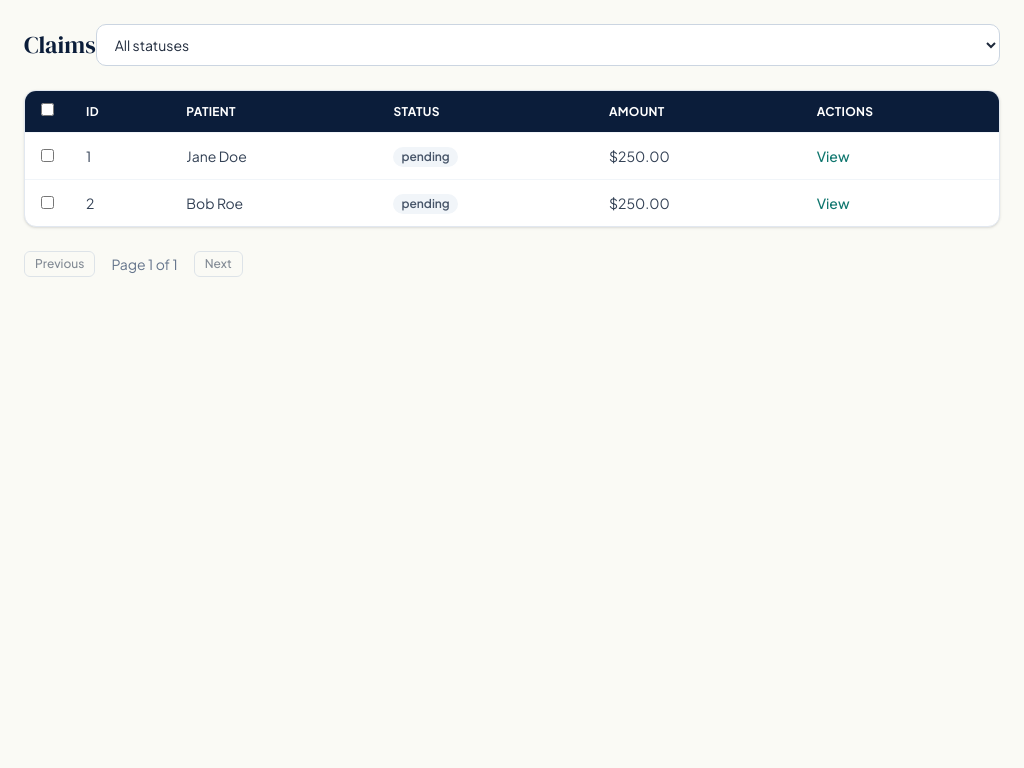
ClaimsList › batch submit posts ids and shows summary
Expected: the text "Bob Roe" is shown, [170,180,377,226]
Click the checkbox named "Select all rows".
click(48, 110)  # box [41,103,54,116]
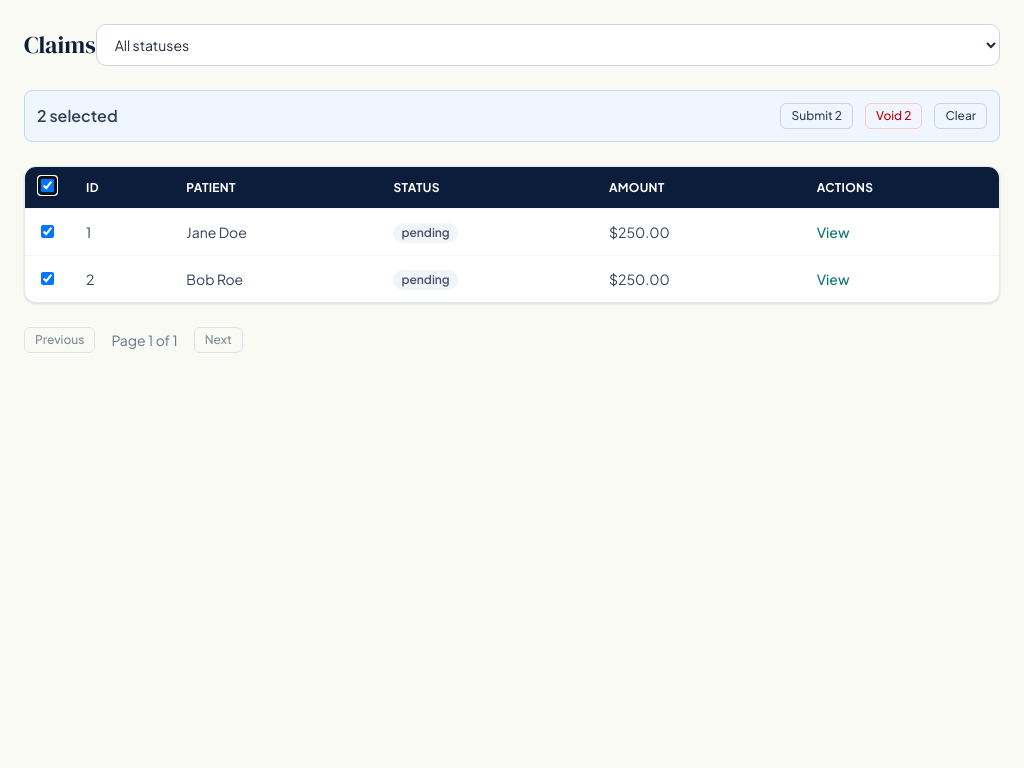
Click the button "Submit 2".
click(817, 116)  # box [780,103,853,129]
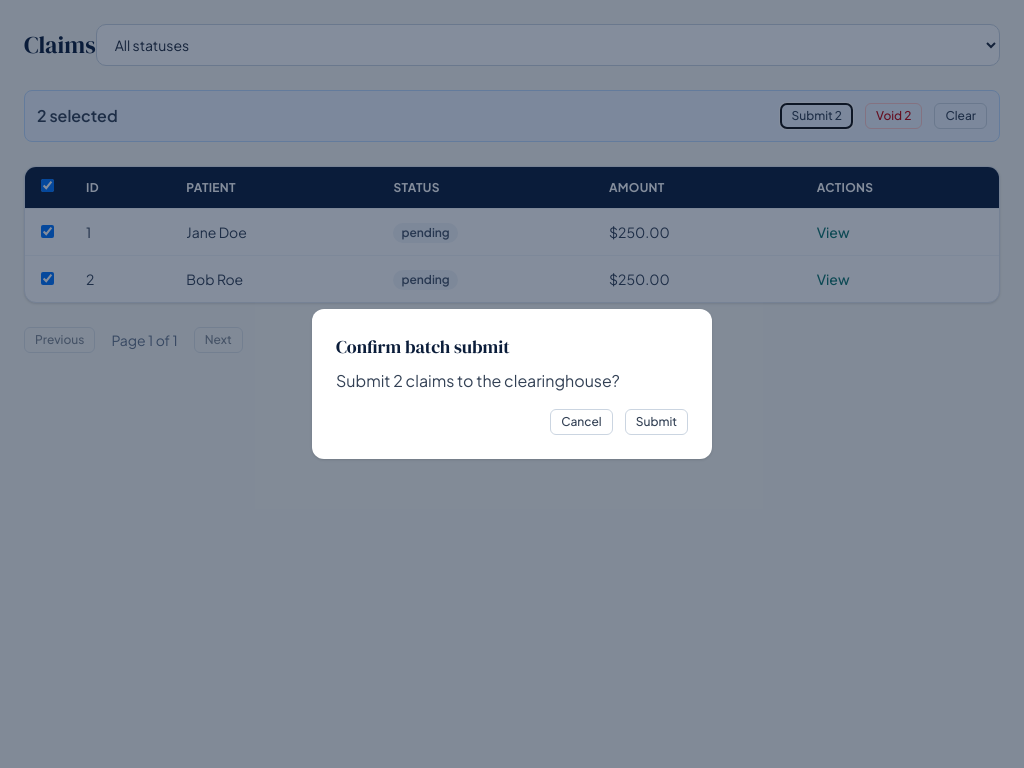
Click the button "Submit".
click(656, 422)  # box [625,409,688,435]
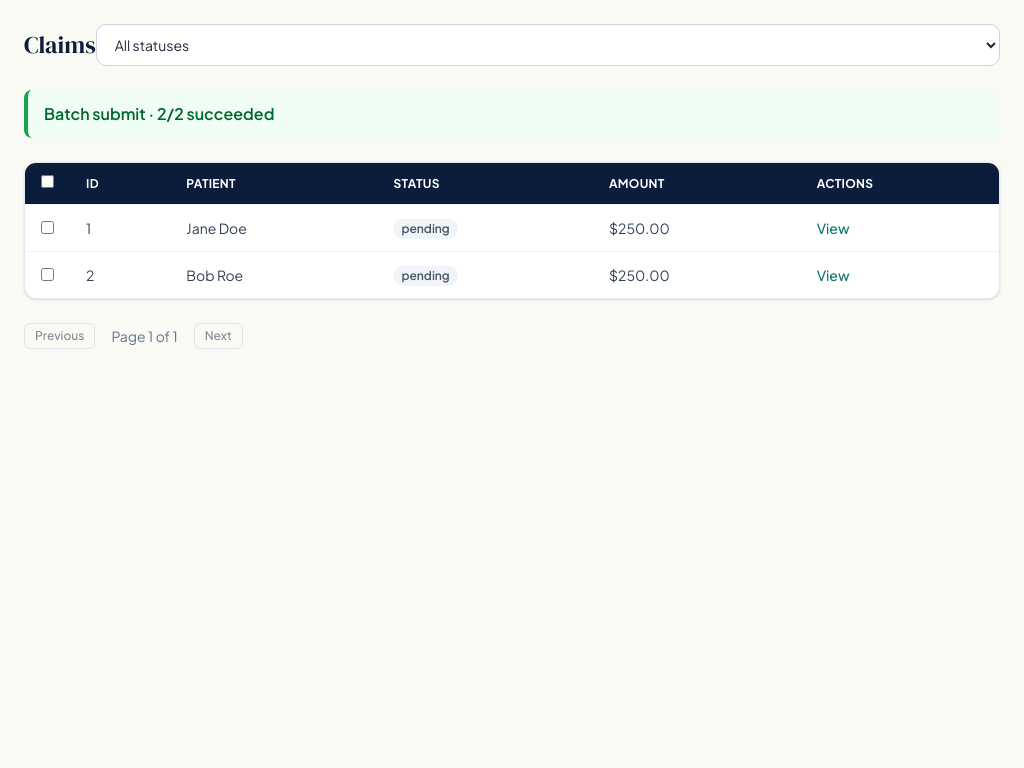
Expected: the text "Batch submit · 2/2 succeeded" is shown, [24,90,1000,138]
